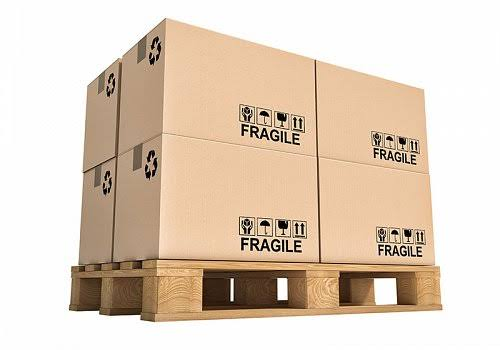box: (161, 16, 319, 160), (159, 134, 321, 260), (315, 59, 431, 174), (317, 158, 438, 264), (115, 20, 165, 153), (113, 133, 161, 264), (78, 58, 119, 171), (79, 154, 114, 264)
pallet: (69, 257, 445, 326)
